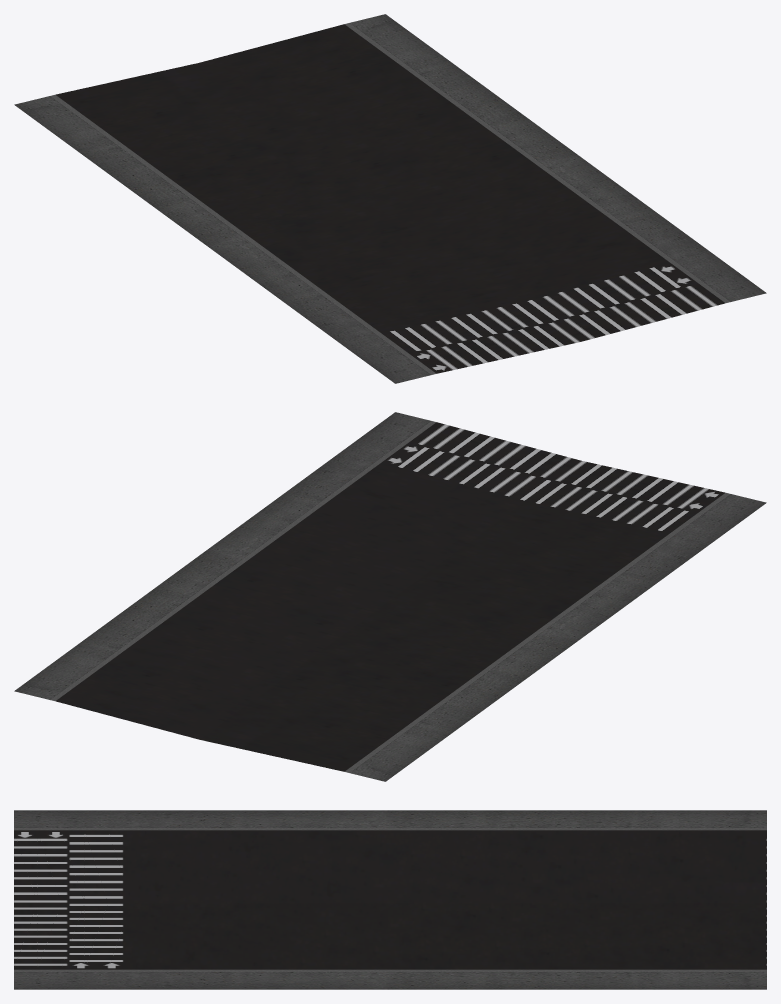
File: RJs_Road 3+4 Basic Node_lod.fbx
3 views of the same model, one above another, from view 1: azimuth 30°, elevation 25°; view 2: azimuth 150°, elevation 25°; view 3: azimuth 270°, elevation 25° (orthographic).
Visible parts, largest first — view 1: plane_lod; view 2: plane_lod; view 3: plane_lod.
Boxes of the visible parts, x1=… form: plane_lod: x1=14, y1=14, x2=766, y2=383; plane_lod: x1=14, y1=412, x2=766, y2=781; plane_lod: x1=14, y1=810, x2=766, y2=989.
Bounding box in the file's own units: 3600 × 30.1 × 6400.
